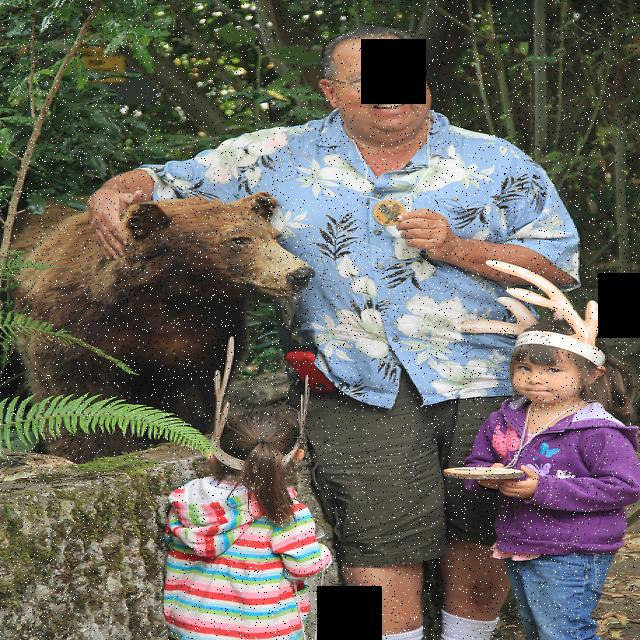Bear: (3, 174, 315, 432)
